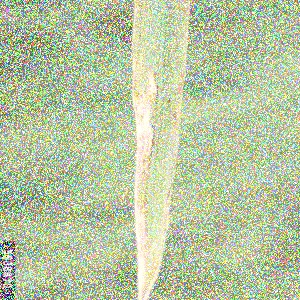Leaf_Blast: (126, 1, 191, 300)
